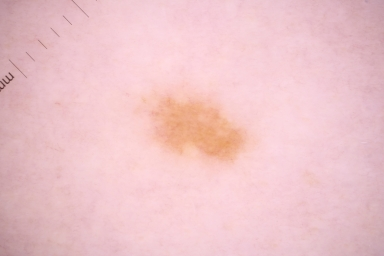melanoma: (143, 93, 247, 165)
